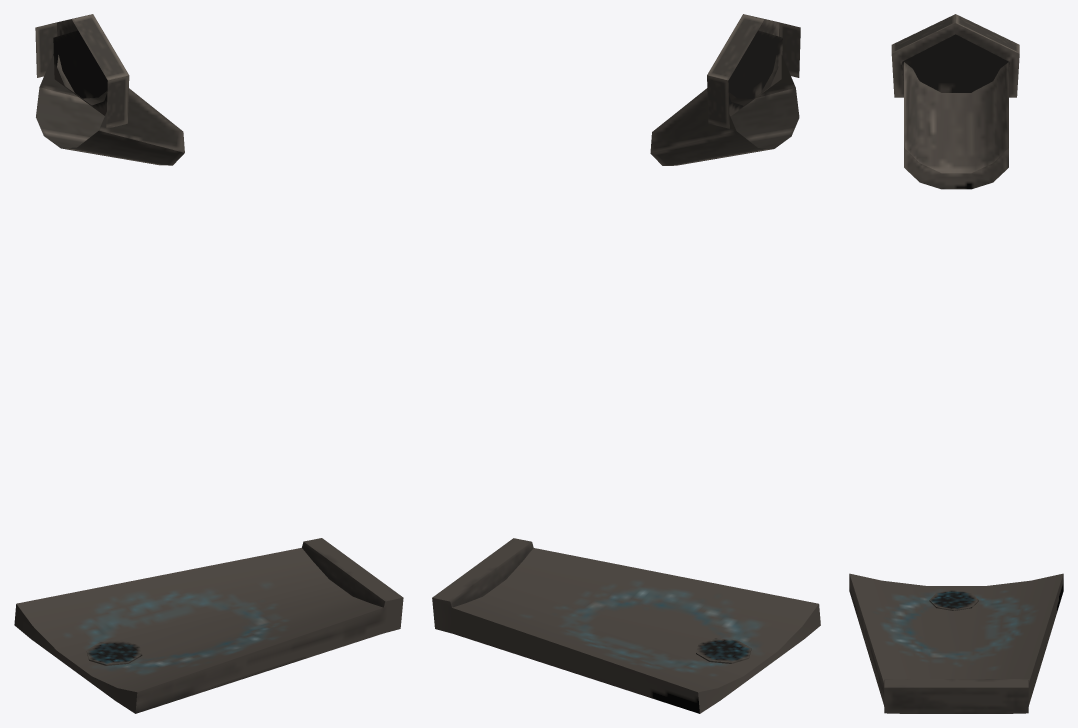
The model's file is Sewer.fbx.
3 views of the same model, side by side, from view 1: azimuth 30°, elevation 25°; view 2: azimuth 150°, elevation 25°; view 3: azimuth 270°, elevation 25° (orthographic). The views are drawn at different scales.
Parts seen in each view (by area): view 1: pCube8, pCube7, pCylinder2, pCylinder1; view 2: pCube8, pCube7, pCylinder2, pCylinder1; view 3: pCube8, pCube7, pCylinder2, pCylinder1.
Part boxes in pixels (<box>): pCube8: <box>14,538,403,713</box>; pCube7: <box>36,54,184,165</box>; pCylinder2: <box>35,14,129,128</box>; pCylinder1: <box>86,640,142,665</box>; pCube8: <box>432,538,820,713</box>; pCube7: <box>650,55,799,165</box>; pCylinder2: <box>707,14,800,128</box>; pCylinder1: <box>696,638,751,663</box>; pCube8: <box>849,573,1063,713</box>; pCube7: <box>904,62,1008,189</box>; pCylinder2: <box>891,14,1019,97</box>; pCylinder1: <box>929,590,978,610</box>.
Size of the model in its own units: 201 by 404 by 136.
